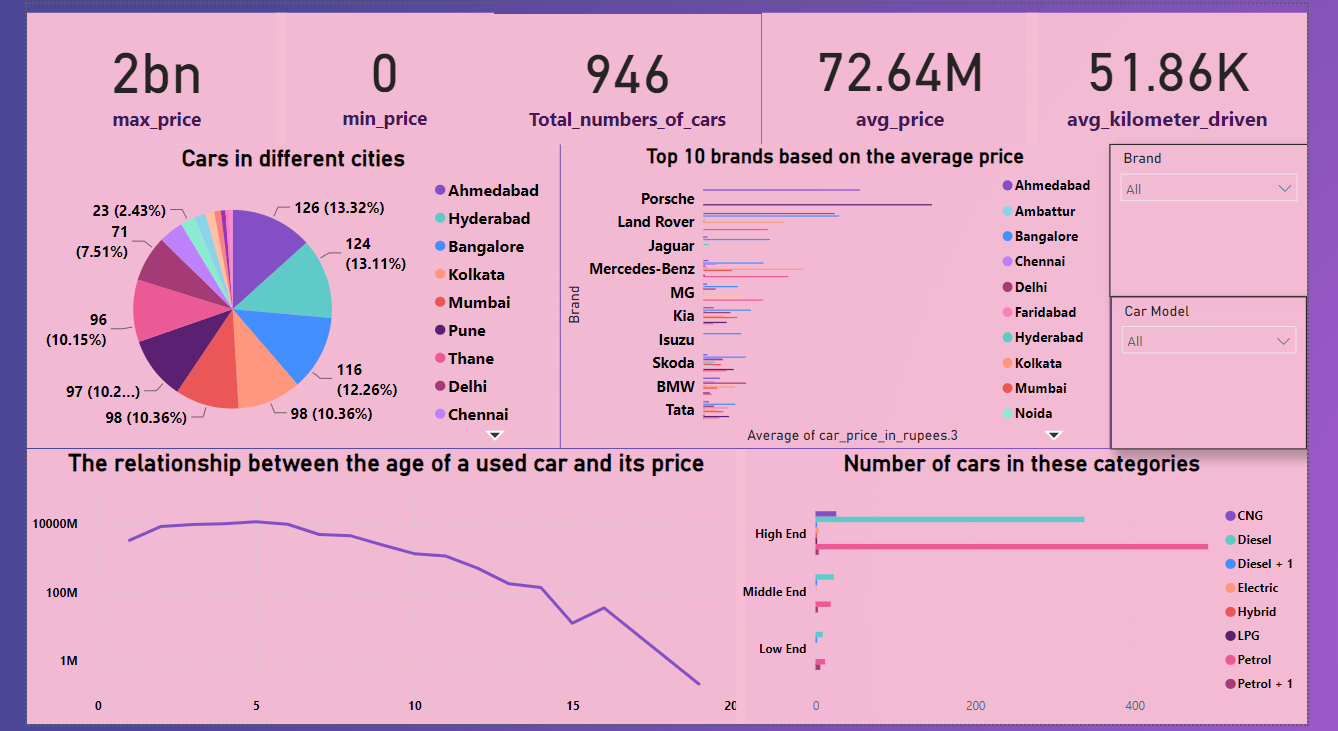

The dashboard page shown, as its layout file describes it:
{"tool":"powerbi","page":{"name":"Dashboard","canvas":[1280,720],"ordinal":0},"visuals":[{"type":"lineChart","title":"The relationship between the age of a used car and its price","fields":{"Category":["used_car_dataset.age"],"Y":["Sum(used_car_dataset.car_price_in_rupees.3)"]},"box":[0,444.9,718.5,275.1],"z":0},{"type":"clusteredBarChart","title":"Top 10 brands based on the average price","fields":{"Category":["used_car_dataset.Brand"],"Y":["Avg(used_car_dataset.car_price_in_rupees.3)"],"Series":["used_car_dataset.city"]},"box":[534.1,140.5,548.8,304.4],"z":1000},{"type":"pieChart","title":"Cars in different cities","fields":{"Category":["used_car_dataset.city"],"Y":["Count(used_car_dataset.Index)"]},"box":[0,140.5,532.7,304.4],"z":2000},{"type":"clusteredBarChart","title":"Number of cars in these categories","fields":{"Category":["used_car_dataset.Categories"],"Y":["CountNonNull(used_car_dataset.Index)"],"Series":["used_car_dataset.fuel_type"]},"box":[708.3,444.9,572.2,275.1],"z":3000},{"type":"card","fields":{"Values":["used_car_dataset.max_price"]},"box":[0,8.8,259,131.7],"z":4000},{"type":"card","fields":{"Values":["used_car_dataset.min_price"]},"box":[248.8,8.8,218,131.7],"z":5000},{"type":"card","fields":{"Values":["used_car_dataset.Total_numbers_of_cars"]},"box":[466.8,10.2,267.8,130.2],"z":6000},{"type":"card","fields":{"Values":["used_car_dataset.avg_price"]},"box":[734.6,8.8,276.6,131.7],"z":7000},{"type":"card","fields":{"Values":["used_car_dataset.avg_kilometer_driven"]},"box":[999.5,8.8,281,131.7],"z":8000},{"type":"slicer","fields":{"Values":["used_car_dataset.Brand"]},"box":[1082.5,140,198.8,152.5],"z":9000},{"type":"slicer","fields":{"Values":["used_car_dataset.Car Model"]},"box":[1083.8,292.5,196.2,152.5],"z":10000}]}

Visuals, with their boxes in screenshot pixels (x1, y1, x2, y2), scaled from the page's 1280x720 canvas onto the 1338x731 screenshot:
"The relationship between the age of a used car and its price" lineChart: (x1=0, y1=452, x2=751, y2=730)
"Top 10 brands based on the average price" clusteredBarChart: (x1=558, y1=143, x2=1132, y2=452)
"Cars in different cities" pieChart: (x1=0, y1=143, x2=557, y2=452)
"Number of cars in these categories" clusteredBarChart: (x1=740, y1=452, x2=1337, y2=730)
card - used_car_dataset.max_price: (x1=0, y1=9, x2=271, y2=143)
card - used_car_dataset.min_price: (x1=260, y1=9, x2=488, y2=143)
card - used_car_dataset.Total_numbers_of_cars: (x1=488, y1=10, x2=768, y2=143)
card - used_car_dataset.avg_price: (x1=768, y1=9, x2=1057, y2=143)
card - used_car_dataset.avg_kilometer_driven: (x1=1045, y1=9, x2=1337, y2=143)
slicer - used_car_dataset.Brand: (x1=1132, y1=142, x2=1337, y2=297)
slicer - used_car_dataset.Car Model: (x1=1133, y1=297, x2=1337, y2=452)
